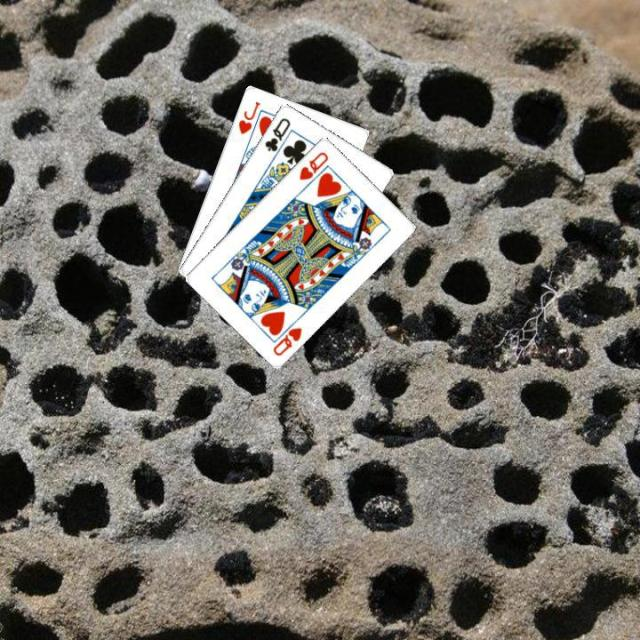JH: (234, 97, 261, 136)
QC: (260, 114, 292, 153)
QH: (268, 314, 304, 357), (295, 148, 330, 182)
